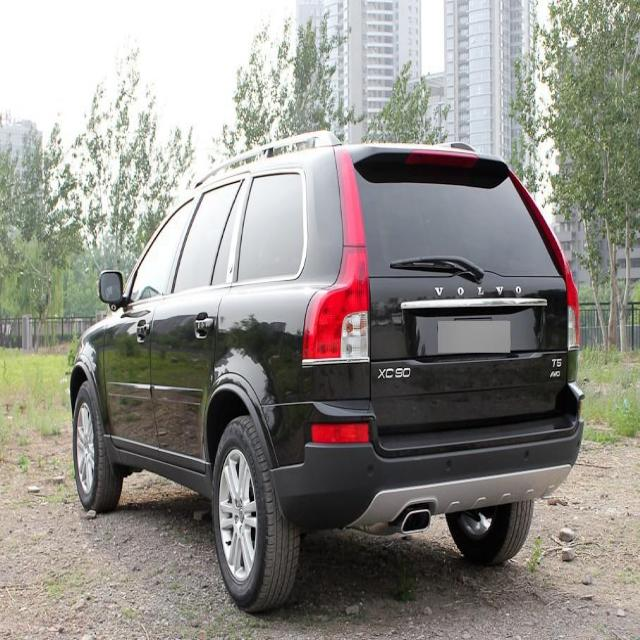back_glass: (352, 154, 562, 284)
back_left_side_light: (296, 146, 371, 370)
back_right_side_light: (507, 166, 580, 350)
door: (159, 178, 256, 474)
front_left_side_door: (102, 189, 198, 470)
front_left_side_mirror: (97, 262, 133, 310)
rear_bumper: (266, 402, 586, 534)
wheel: (210, 411, 302, 616), (72, 380, 125, 516), (444, 497, 534, 561)
